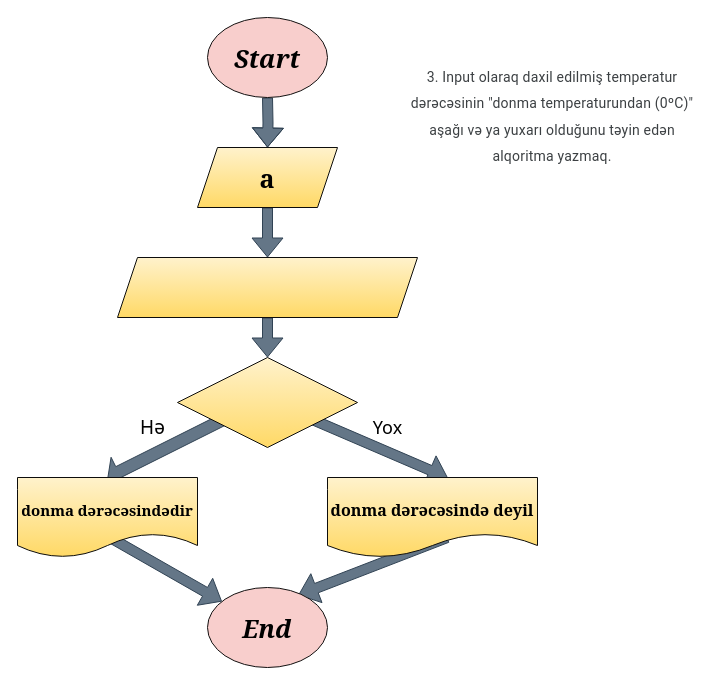
This 725x685 diagram has some shape labels left out. The shapes that lost their labels are listed below. From the top down, each one's centre as x and y in pixels, then its label:
At point 267,287: "donma dərəcəsi = 0 ºC".
At point 267,402: "a< 0 ºC".
